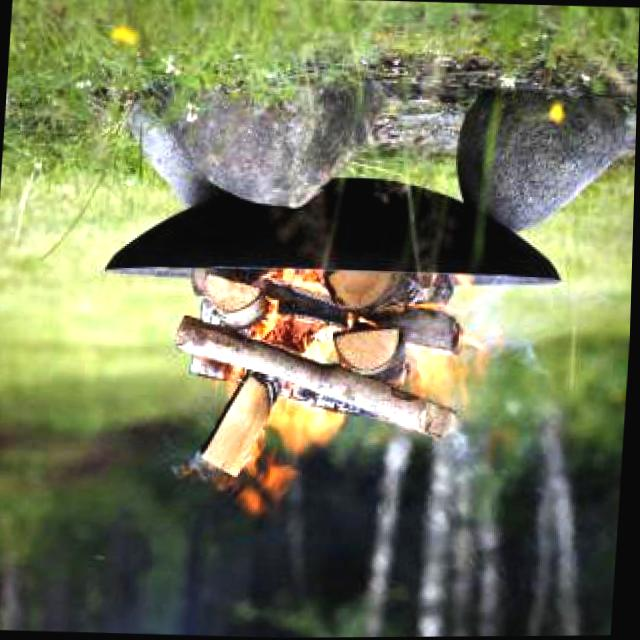Fire: (207, 288, 468, 524)
